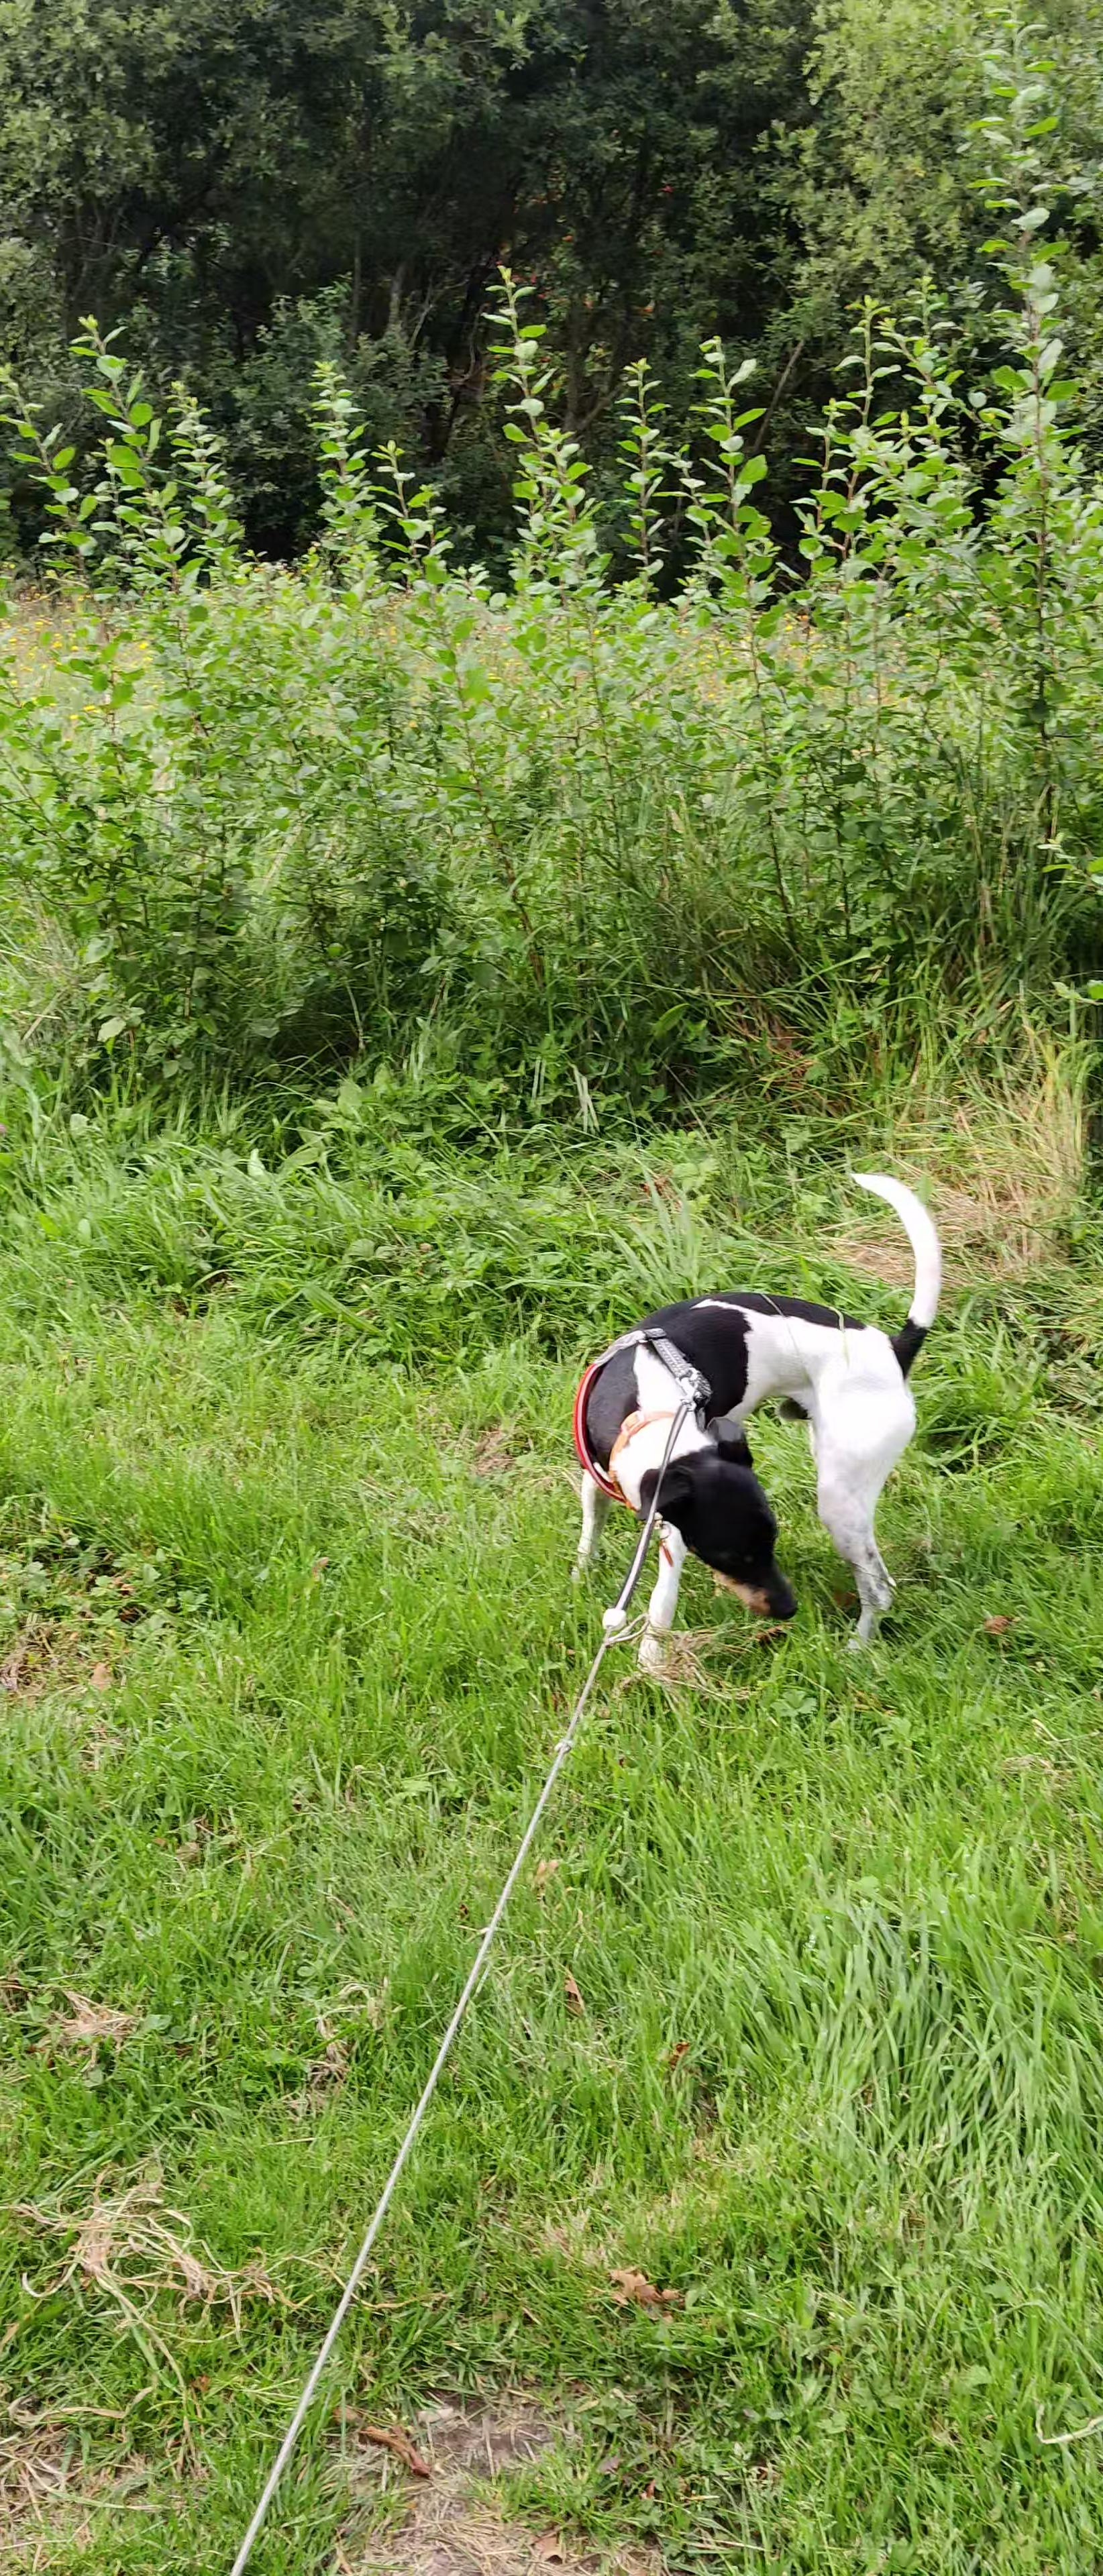Dog: (551, 1148, 945, 1695)
